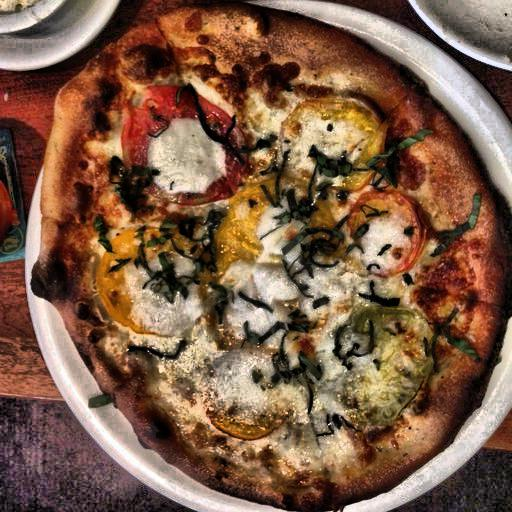pizza: (33, 17, 495, 509)
